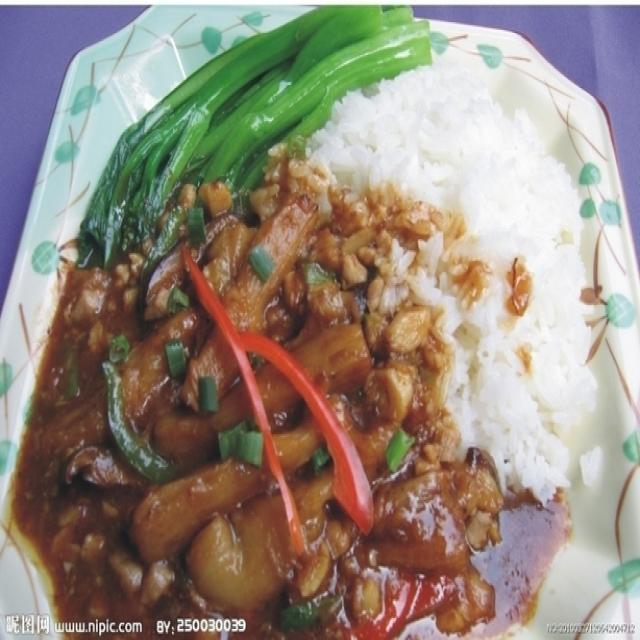鸡蛋料理: (13, 24, 628, 630)
